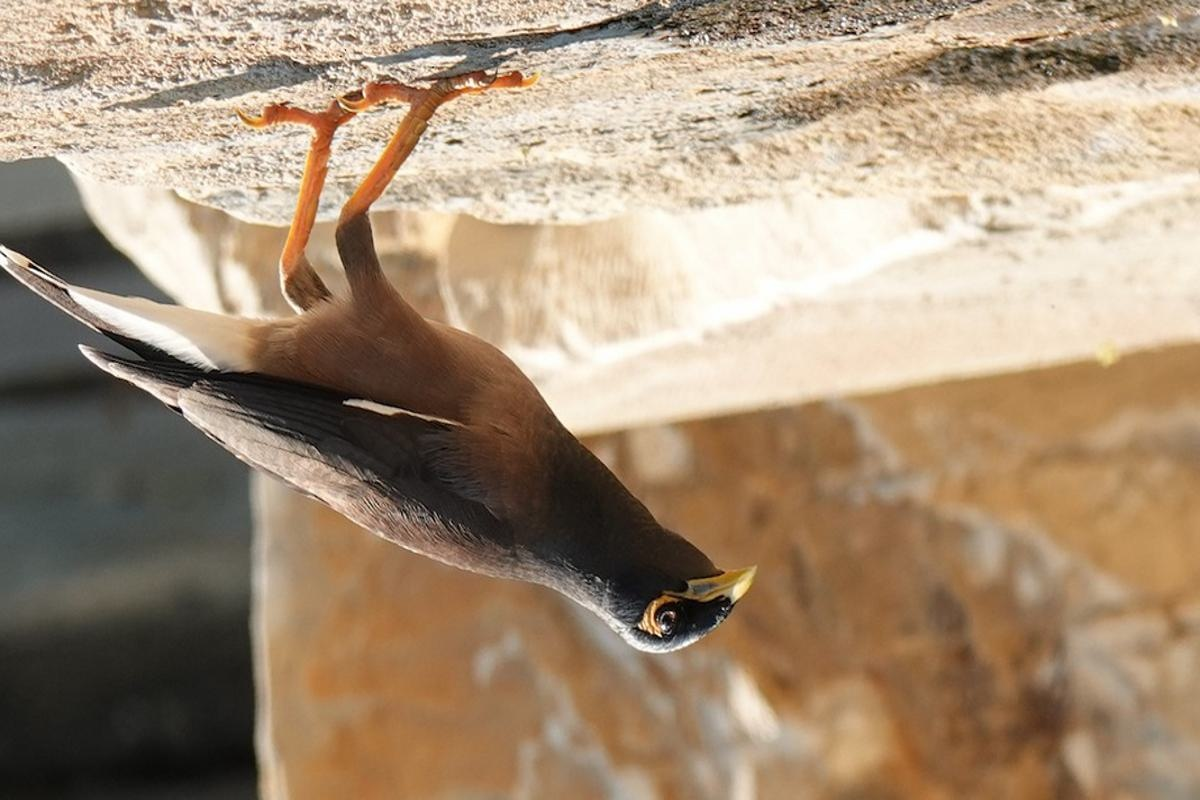myna: (55, 115, 804, 646)
